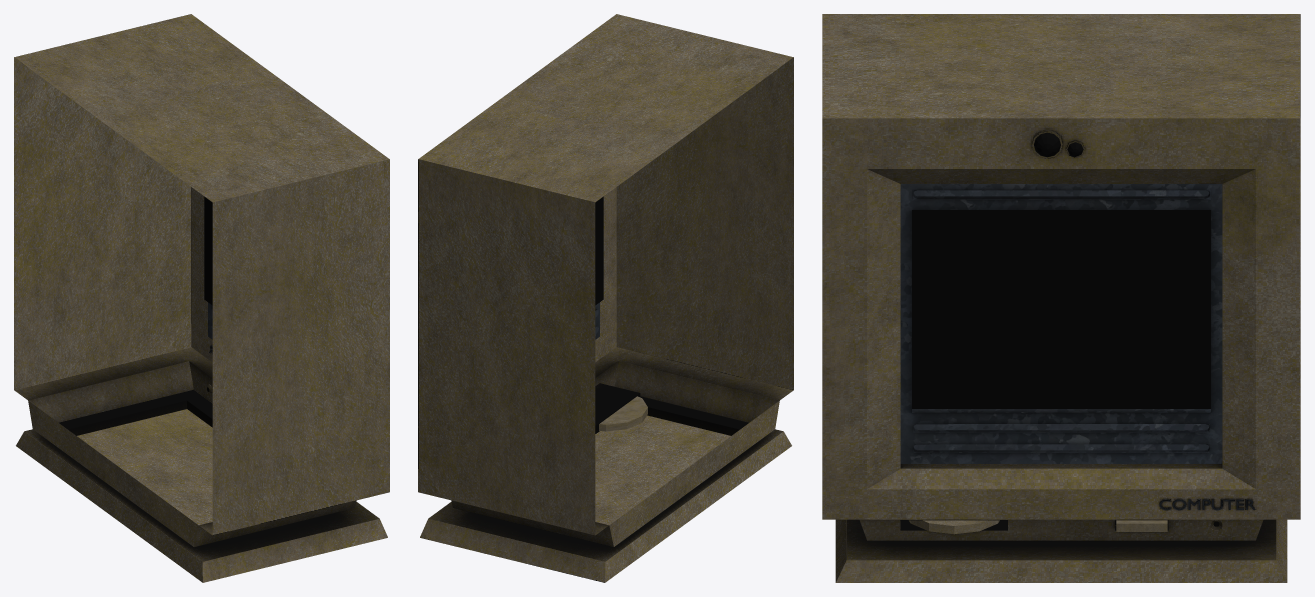
Rendered from computer.glb.
3 renders of one model, left to right at view 1: azimuth 30°, elevation 25°; view 2: azimuth 150°, elevation 25°; view 3: azimuth 270°, elevation 25°, orthographic. The views are drawn at different scales.
Parts seen in each view (by area): view 1: Main Body, Screen; view 2: Main Body, Cylinder, Screen; view 3: Main Body, Screen, Inset, Cylinder, PowerButton.
Boxes of the visible parts, left/top/right/bottom form: Main Body: left=14, top=14, right=389, bottom=582; Screen: left=204, top=196, right=212, bottom=305; Main Body: left=418, top=14, right=793, bottom=582; Cylinder: left=599, top=396, right=647, bottom=431; Screen: left=595, top=196, right=603, bottom=305; Main Body: left=822, top=14, right=1300, bottom=582; Screen: left=912, top=210, right=1210, bottom=408; Inset: left=900, top=184, right=1222, bottom=463; Cylinder: left=909, top=520, right=999, bottom=534; PowerButton: left=1116, top=520, right=1167, bottom=531.
Bounding box in the file's own units: 2.37 × 4.55 × 4.27.
Materials: 3 (3 with a texture image).
